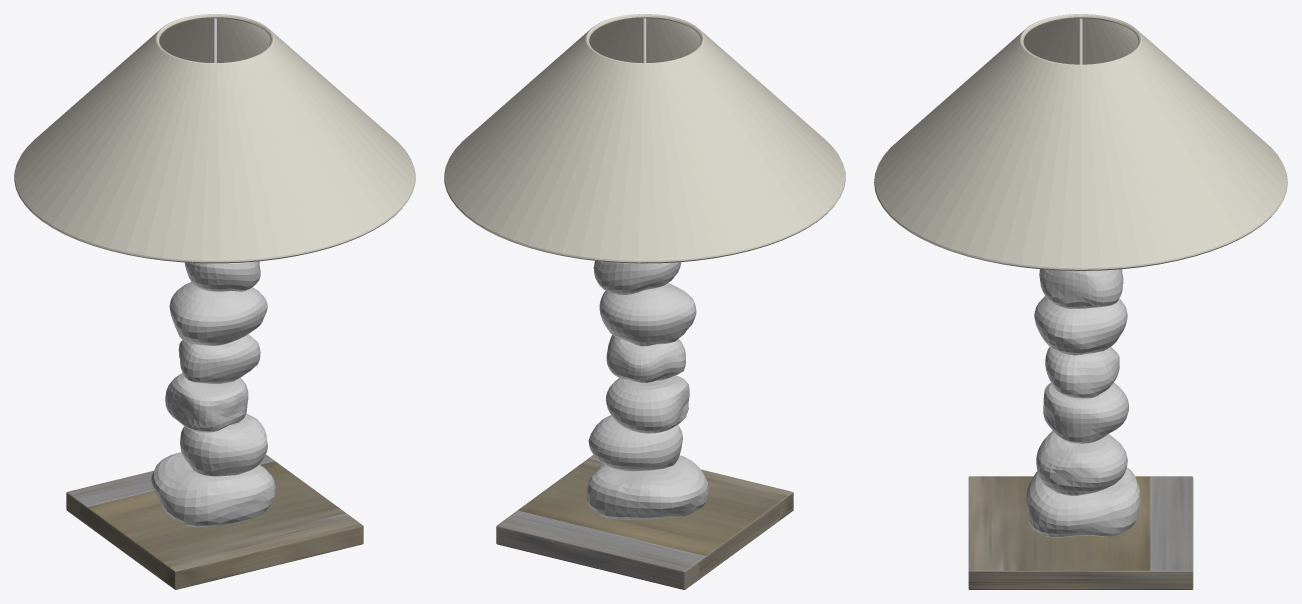
Rendered from lamp.obj.
The picture shows the model from 3 angles, left to right: view 1: azimuth 30°, elevation 25°; view 2: azimuth 150°, elevation 25°; view 3: azimuth 270°, elevation 25°; orthographic projection. The views are drawn at different scales.
Visible parts, largest first — view 1: Cylinder.002, Cube, Sphere.001, Sphere.005, Sphere.002, Sphere.003, Sphere.004, Sphere.006; view 2: Cylinder.002, Cube, Sphere.001, Sphere.005, Sphere.003, Sphere.002, Sphere.004, Sphere.006; view 3: Cylinder.002, Cube, Sphere.001, Sphere.002, Sphere.005, Sphere.003, Sphere.004, Sphere.006.
Boxes of the visible parts, <box> form: Cylinder.002: <box>14,14,415,263</box>; Cube: <box>66,454,363,589</box>; Sphere.001: <box>151,452,275,527</box>; Sphere.005: <box>169,282,267,345</box>; Sphere.002: <box>180,413,267,476</box>; Sphere.003: <box>165,373,248,432</box>; Sphere.004: <box>178,334,260,383</box>; Sphere.006: <box>184,261,260,291</box>; Cylinder.002: <box>444,14,845,263</box>; Cube: <box>496,455,793,589</box>; Sphere.001: <box>587,455,708,519</box>; Sphere.005: <box>599,282,696,346</box>; Sphere.003: <box>606,375,689,433</box>; Sphere.002: <box>588,415,682,471</box>; Sphere.004: <box>606,334,685,382</box>; Sphere.006: <box>593,261,681,294</box>; Cylinder.002: <box>874,14,1287,270</box>; Cube: <box>968,476,1193,589</box>; Sphere.001: <box>1025,467,1140,537</box>; Sphere.002: <box>1036,431,1127,495</box>; Sphere.005: <box>1034,296,1127,355</box>; Sphere.003: <box>1043,383,1128,443</box>; Sphere.004: <box>1045,347,1119,398</box>; Sphere.006: <box>1039,269,1123,308</box>.
Bounding box in the file's own units: 30.49 × 40.94 × 30.49.
